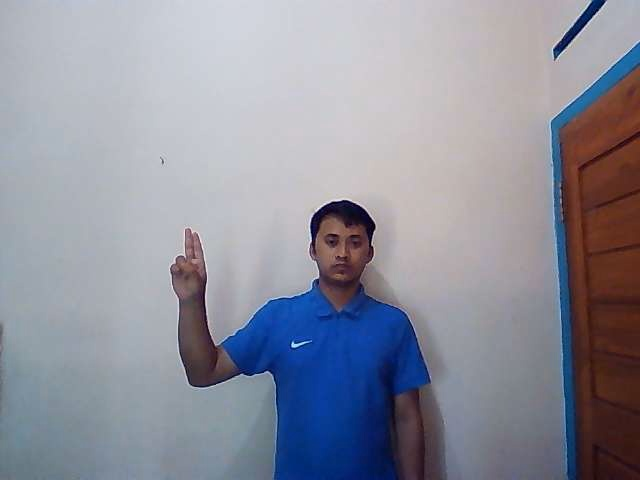U: (170, 226, 207, 298)
